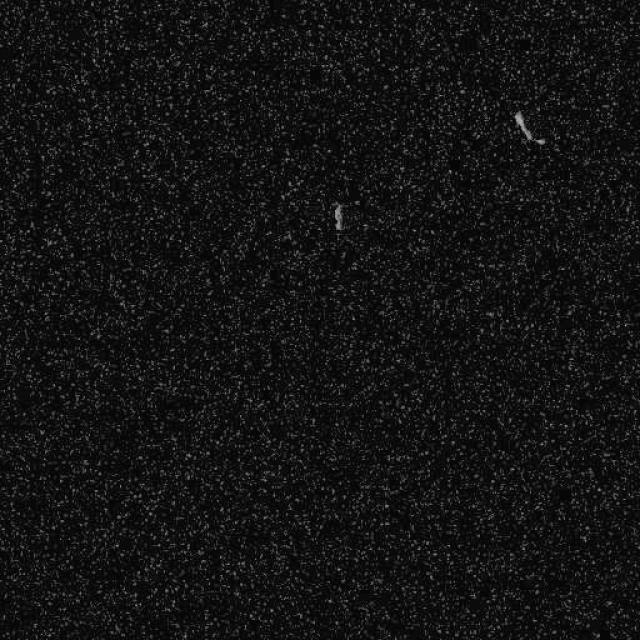D2: (512, 109, 546, 146), (331, 201, 345, 231)
